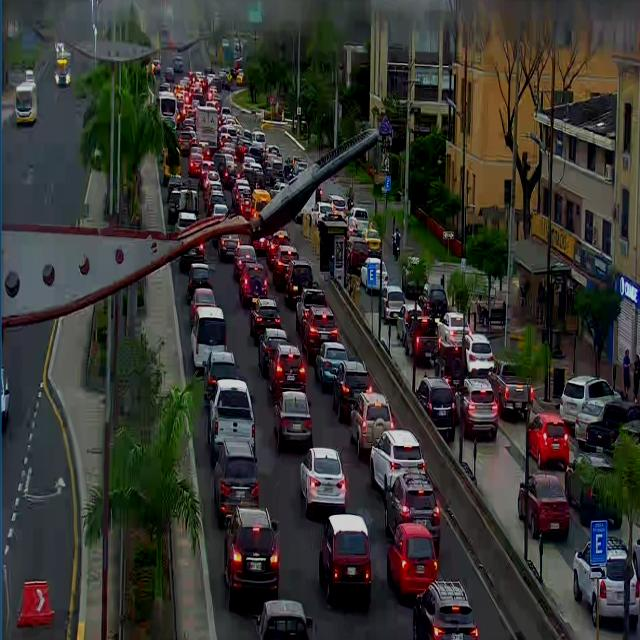CMT: (207, 379, 257, 461)
